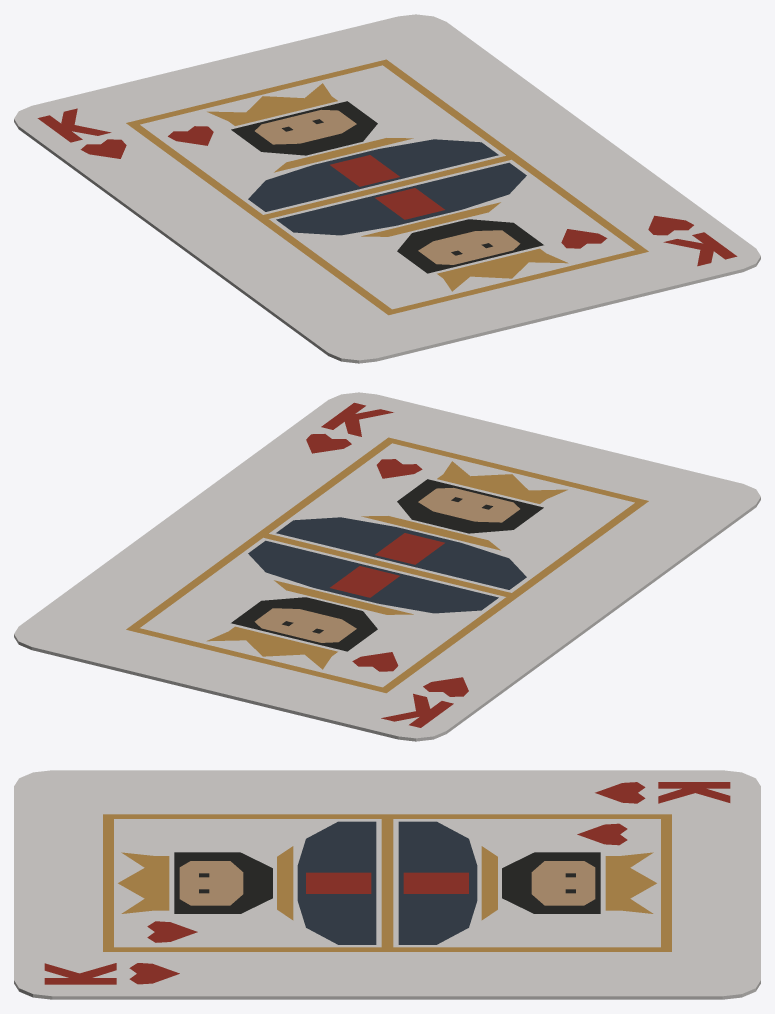
The model's file is playing-card-f2f787.glb.
3 views of the same model, one above another, from view 1: azimuth 30°, elevation 25°; view 2: azimuth 150°, elevation 25°; view 3: azimuth 270°, elevation 25° (orthographic). The views are drawn at different scales.
Visible parts, largest first — view 1: card; view 2: card; view 3: card.
Part boxes in pixels (bbox=[...]): card: bbox=[14, 14, 760, 363]; card: bbox=[14, 392, 760, 741]; card: bbox=[14, 770, 760, 999].
Bounding box in the file's own units: 0.063 × 0.00045 × 0.088.
